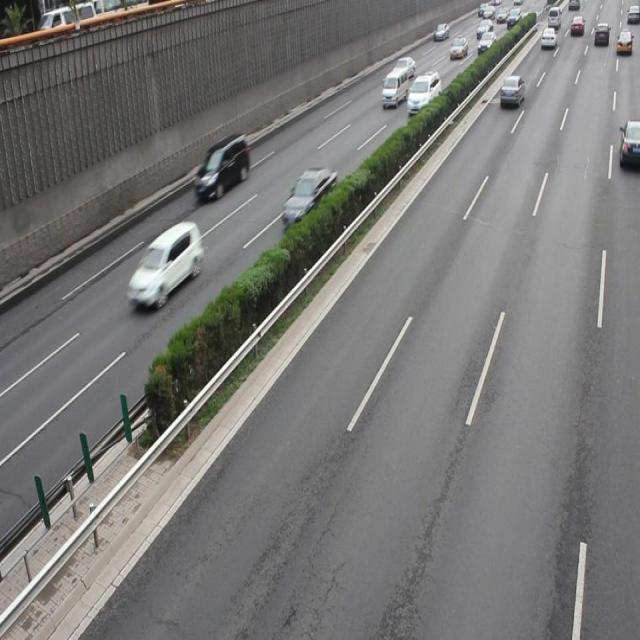car: (126, 220, 202, 310), (281, 166, 337, 230), (616, 118, 640, 170)
truck: (193, 132, 250, 202), (406, 70, 441, 116)
